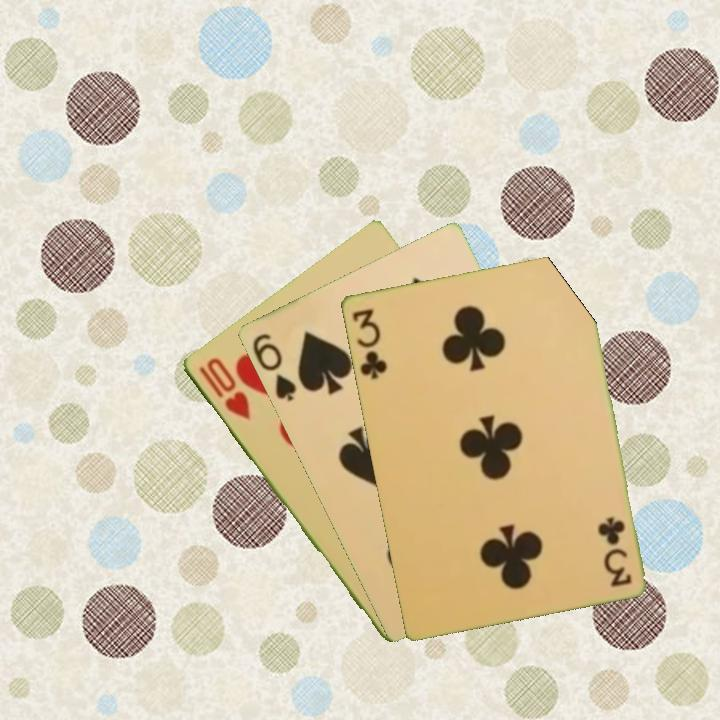10h: (194, 354, 253, 423)
3c: (348, 305, 390, 382), (596, 512, 634, 590)
6s: (248, 329, 299, 404)
